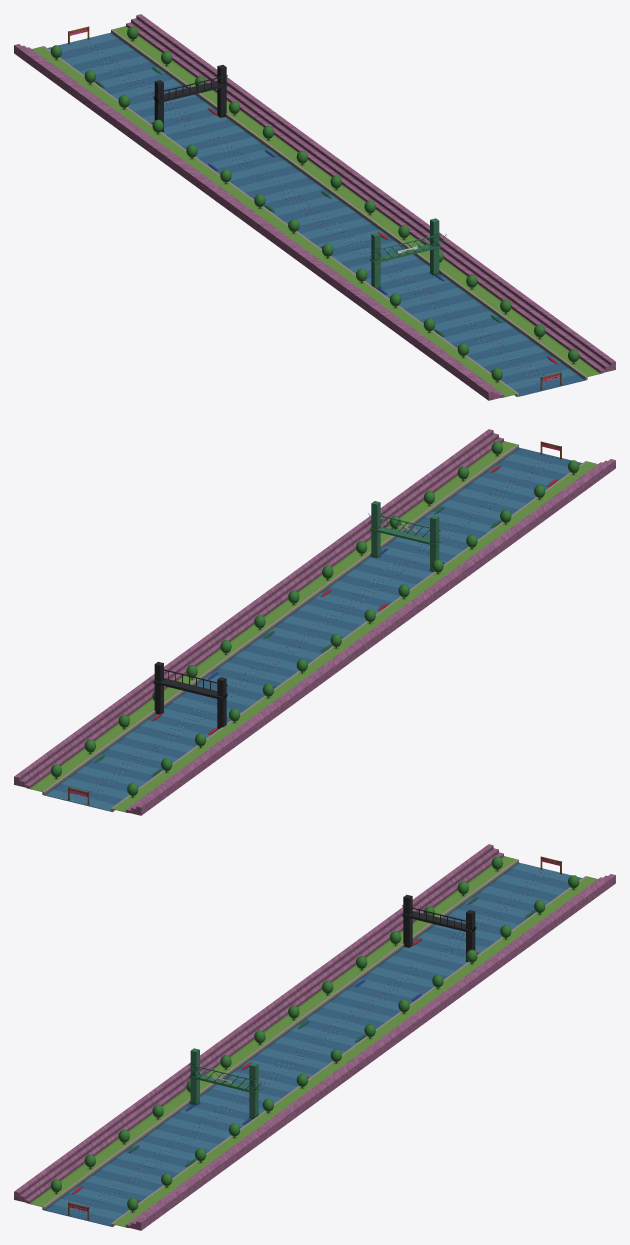
The model's file is rio_willamette.glb.
The picture shows the model from 3 angles, top to bottom: view 1: azimuth 30°, elevation 25°; view 2: azimuth 150°, elevation 25°; view 3: azimuth 330°, elevation 25°; orthographic projection.
Parts seen in each view (by area): view 1: rio_willamette; view 2: rio_willamette; view 3: rio_willamette.
Boxes of the visible parts, x1,y1,x2,y2 form: rio_willamette: (14,14,615,400); rio_willamette: (14,429,615,815); rio_willamette: (14,844,615,1230).
Size of the model in its own units: 65 by 26.2 by 420.
Materials: 1 (1 with a texture image).
